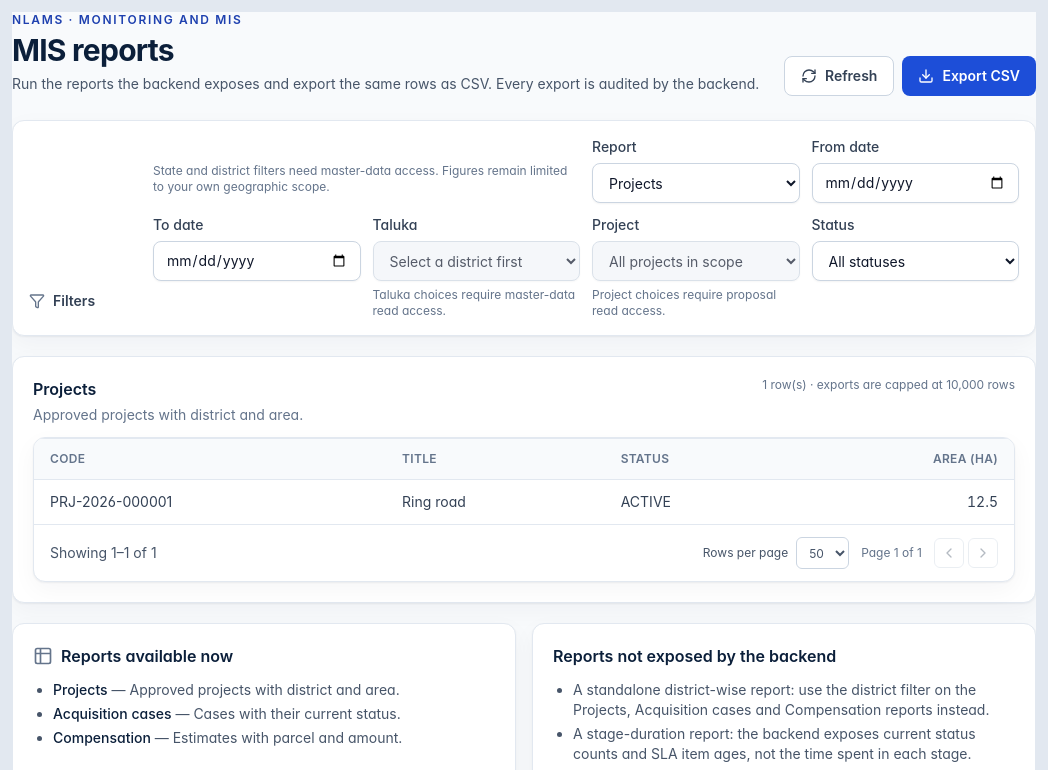
Test case: MIS reports › changes the report through the report selector
The image size is (1048, 770).
Select "Compensation" in the dropdown labelled "Report" at [696, 183], box left=592, top=163, right=800, bottom=203
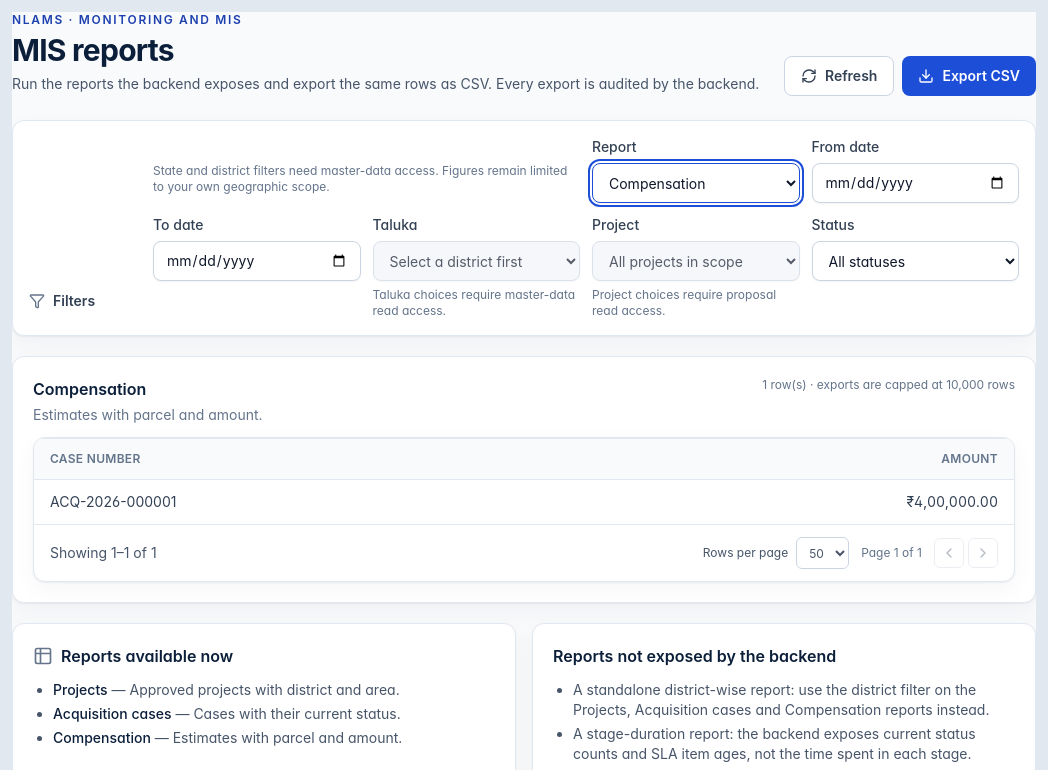
Result: the text "ACQ-2026-000001" is shown at left=34, top=480, right=585, bottom=524
Result: the column heading "Amount" is shown at left=585, top=438, right=1014, bottom=479
